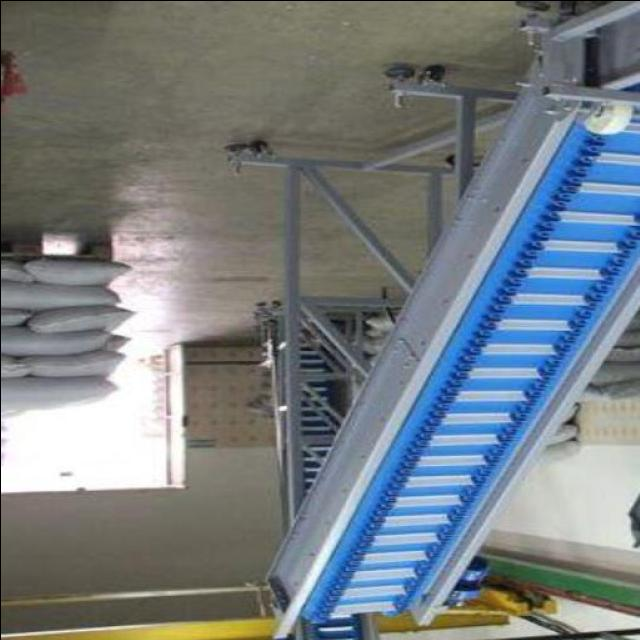conveyor: (309, 102, 640, 622)
